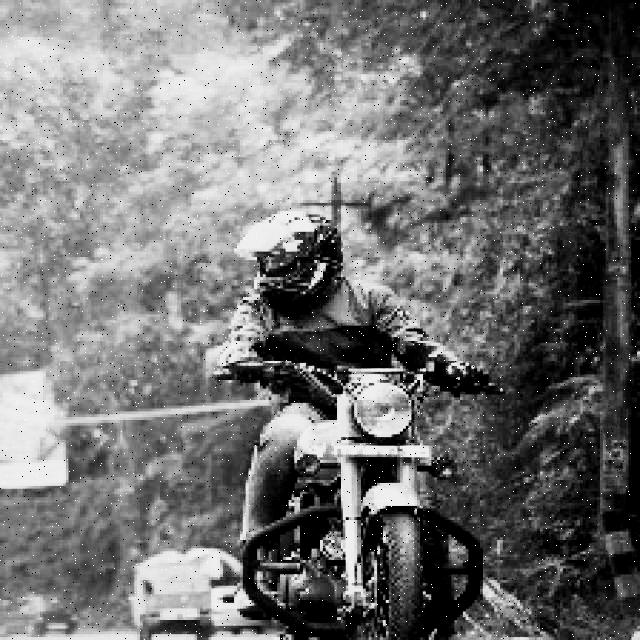Bike: (277, 348, 477, 640)
